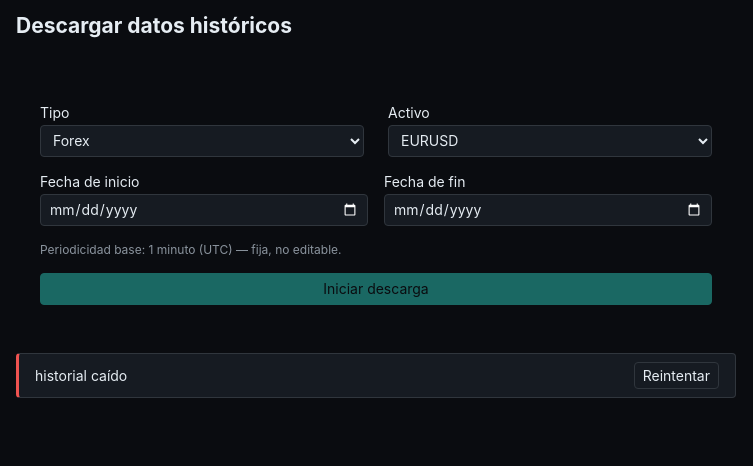
Scenario: DownloadScreen (TASK-UI-021, SCR-002) › shows an error banner when the history cannot be loaded and retries
Expected: the text "historial caído" is shown, [35,367,127,384]
Click the button "Reintentar": [676, 375] box [634,362,719,389]
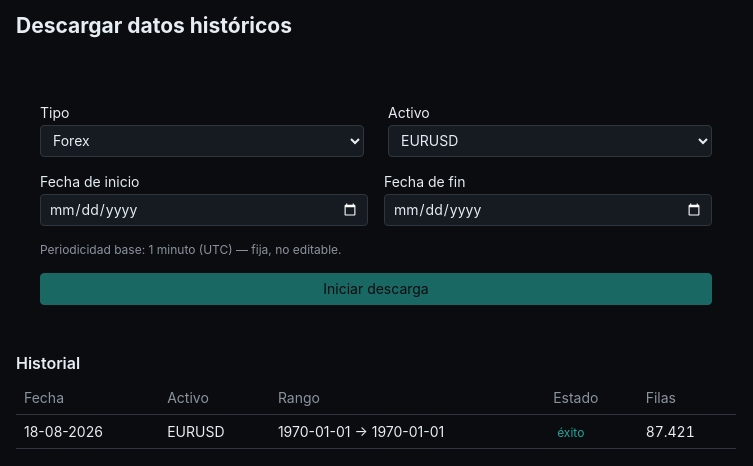
Expected: the table is shown, [16,381,736,449]
Expected: the text "historial caído" is gone
